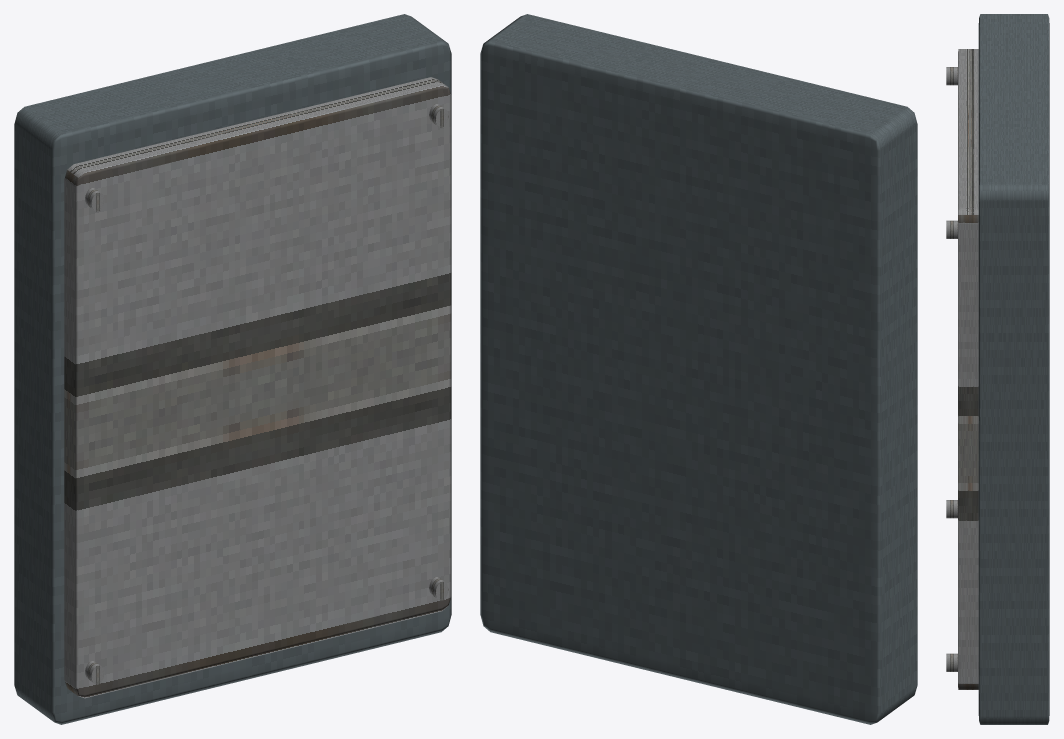
Rendered from hinge.glb.
3 views of the same model, side by side, from view 1: azimuth 30°, elevation 25°; view 2: azimuth 150°, elevation 25°; view 3: azimuth 270°, elevation 25° (orthographic). The views are drawn at different scales.
Visible parts, largest first — view 1: face, back; view 2: back; view 3: back, face, pin (×4).
Part boxes in pixels (box(x1,y1,x2,y2)): face: box(64, 77, 451, 698); back: box(14, 14, 451, 724); back: box(480, 14, 917, 724); back: box(978, 14, 1049, 724); face: box(958, 49, 978, 689); pin (×4): box(946, 67, 957, 671).
Size of the model in its own units: 0.085 by 0.12 by 0.0208.
2 materials, 2 textured.
